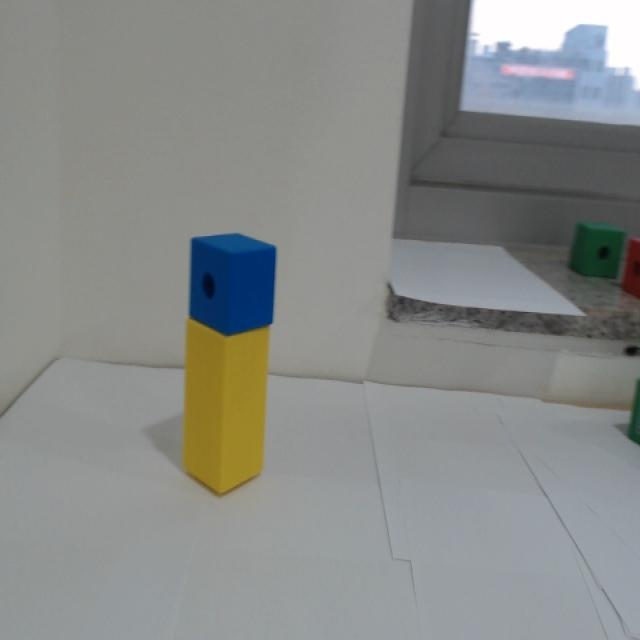cube: (185, 229, 278, 339)
